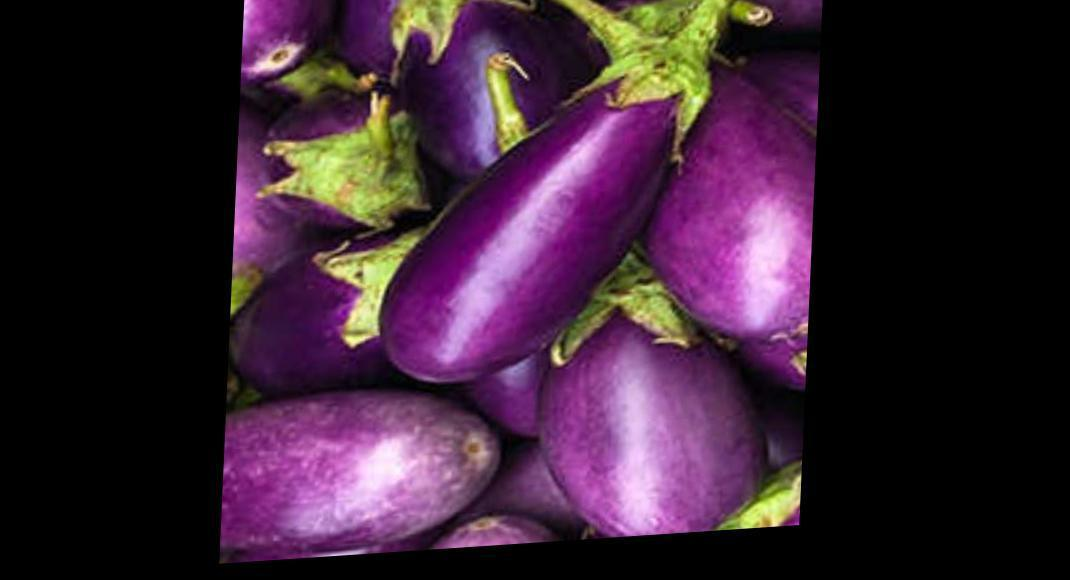eggplant: (254, 0, 701, 565)
